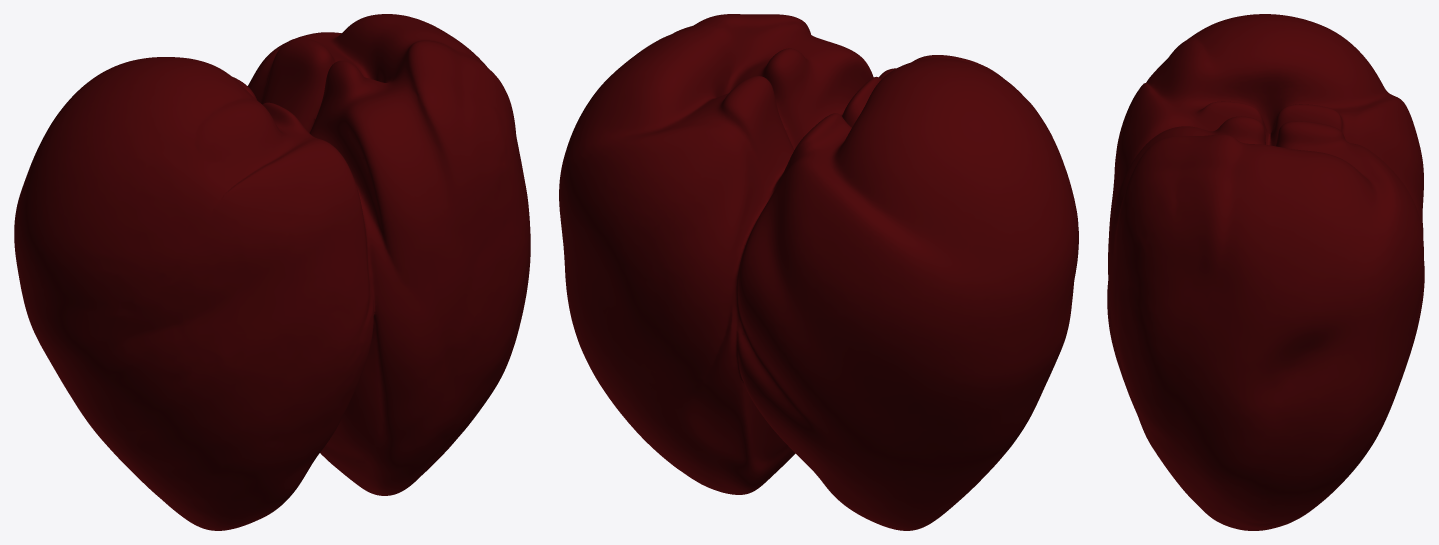
File: liver.glb
The picture shows the model from 3 angles, left to right: view 1: azimuth 30°, elevation 25°; view 2: azimuth 150°, elevation 25°; view 3: azimuth 270°, elevation 25°; orthographic projection. The views are drawn at different scales.
Visible parts, largest first — view 1: geometry_0.003; view 2: geometry_0.003; view 3: geometry_0.003.
Boxes of the visible parts, x1,y1,x2,y2 form: geometry_0.003: (14,14,530,530); geometry_0.003: (559,14,1078,530); geometry_0.003: (1107,14,1424,530).
Size of the model in its own units: 0.1727 by 0.1626 by 0.1116.
